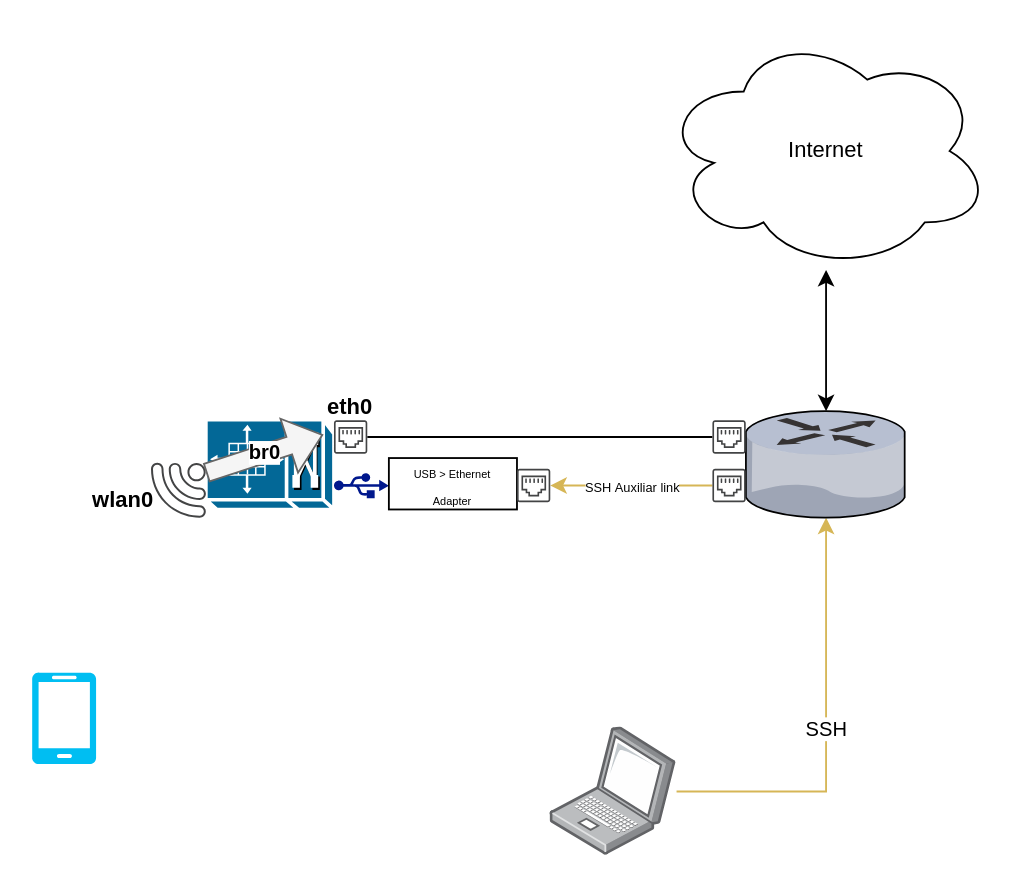
The diagram is 1023 pixels wide and 888 high, and some of its shapes have lost their labels. The centre of each missing label's shape, as x and y in pixels:
"Home router 192.168.1.1" belongs at point (825, 463).
"Raspberry Pi" belongs at point (269, 463).
